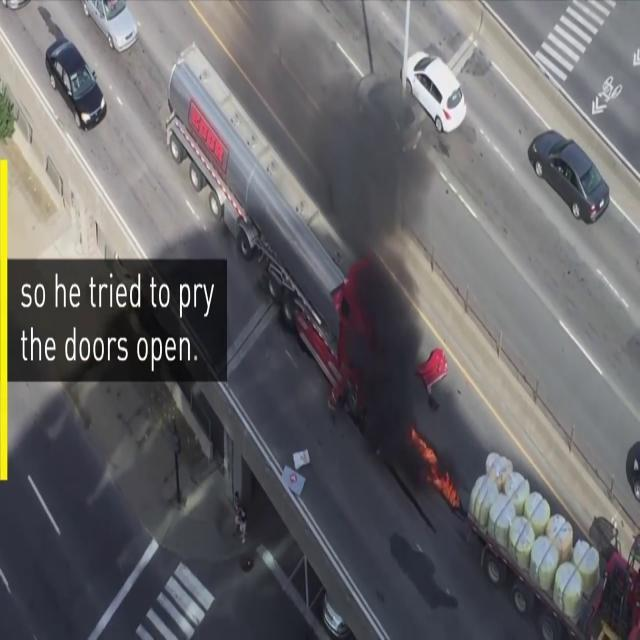Smoke: (294, 0, 448, 478)
